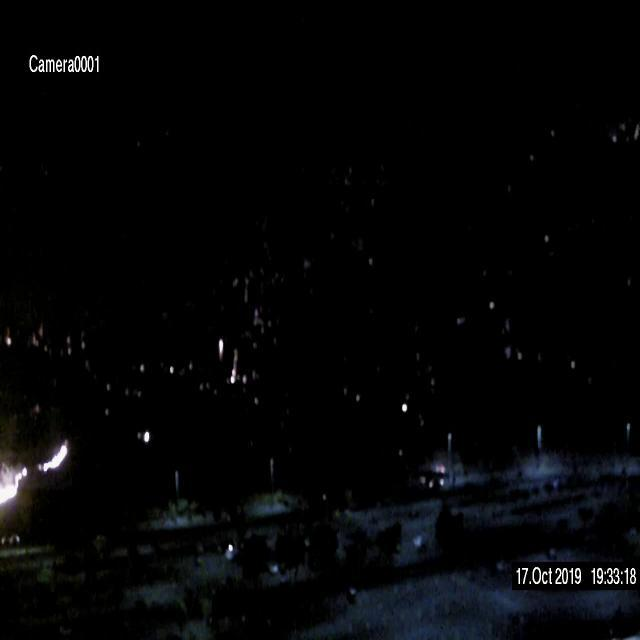Fire: (1, 460, 27, 510), (38, 444, 68, 472)
